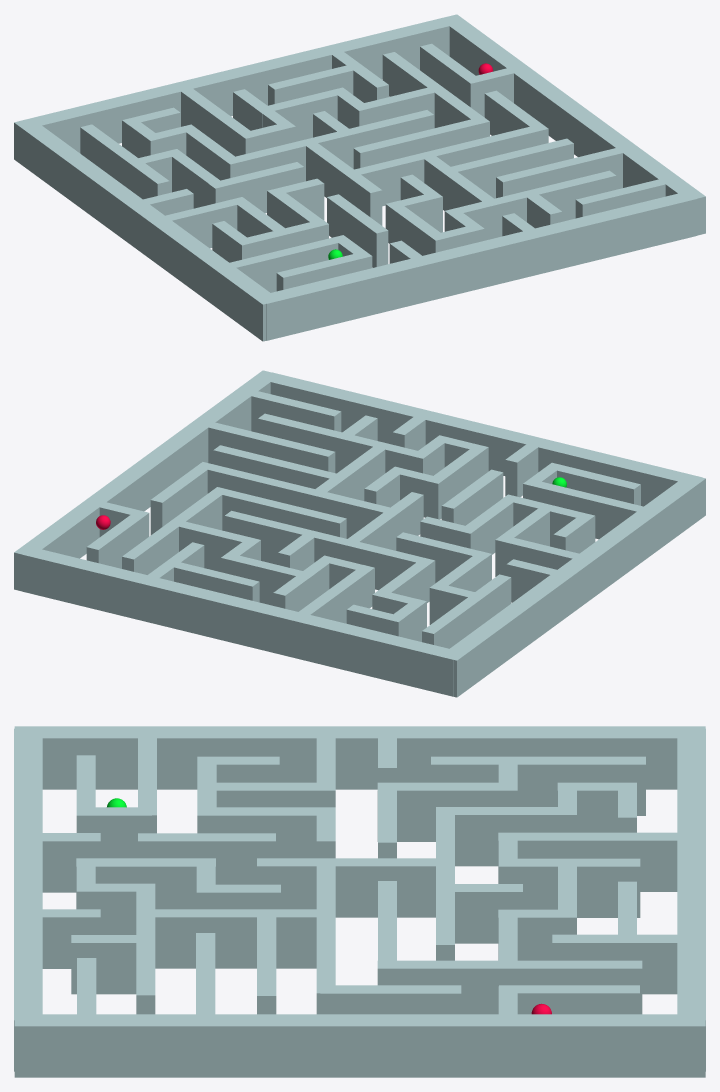
The model's file is Laberinto1.fbx.
3 renders of one model, top to bottom at view 1: azimuth 30°, elevation 25°; view 2: azimuth 150°, elevation 25°; view 3: azimuth 270°, elevation 25°, orthographic. The views are drawn at different scales.
Visible parts, largest first — view 1: pasted__Laberinto_1; view 2: pasted__Laberinto_1; view 3: pasted__Laberinto_1.
Part boxes in pixels (<box>): pasted__Laberinto_1: <box>14,14,705,341</box>; pasted__Laberinto_1: <box>14,370,705,697</box>; pasted__Laberinto_1: <box>14,726,705,1077</box>.
Size of the model in its own units: 25.55 by 2.08 by 24.89.
